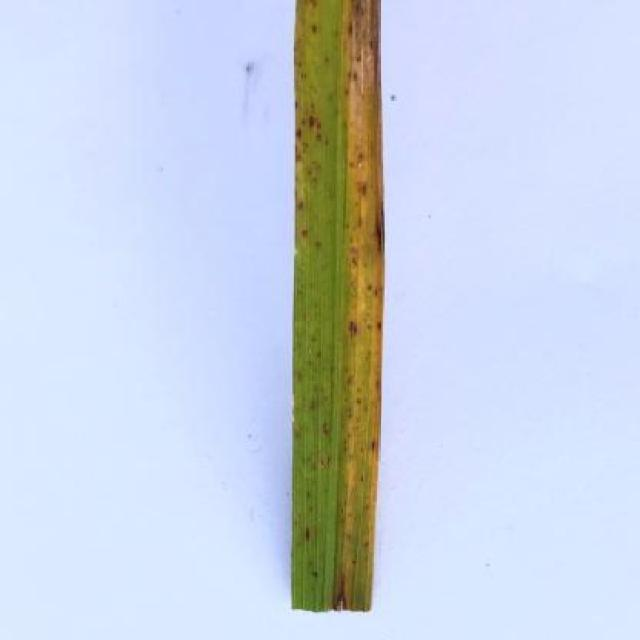Leaf_Blast: (298, 523, 320, 546), (304, 562, 324, 580)
Rice False Smut: (288, 0, 388, 614)
